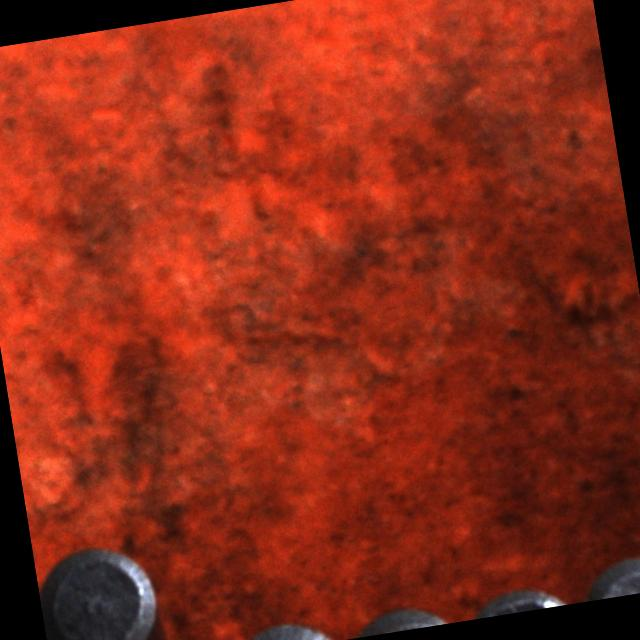tool: (32, 530, 166, 640)
